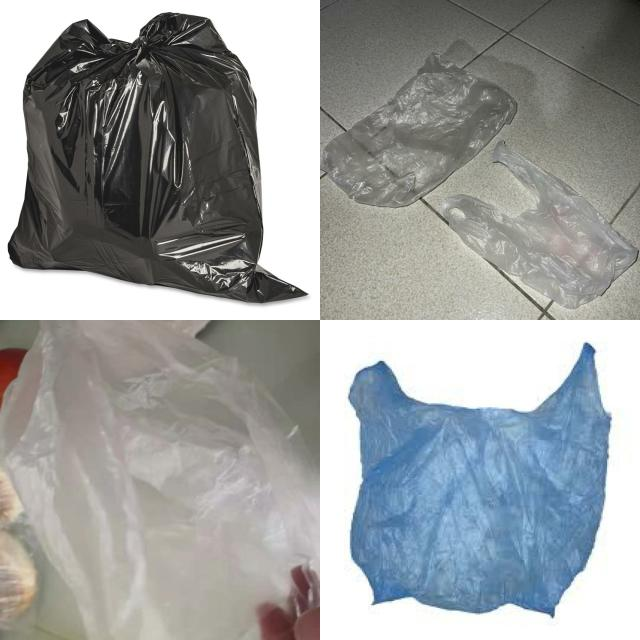Single-layer Plastic: (0, 321, 318, 640), (9, 12, 305, 302), (349, 344, 611, 615), (442, 142, 638, 309), (321, 54, 516, 207)
